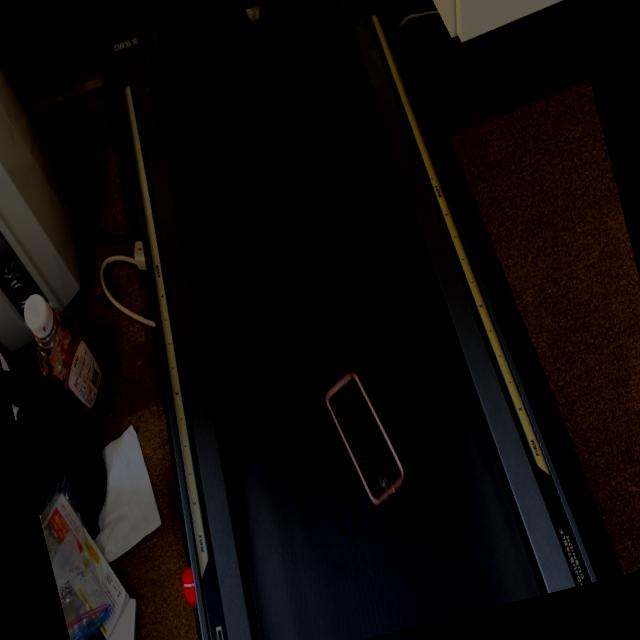Trash: (324, 367, 424, 515)
